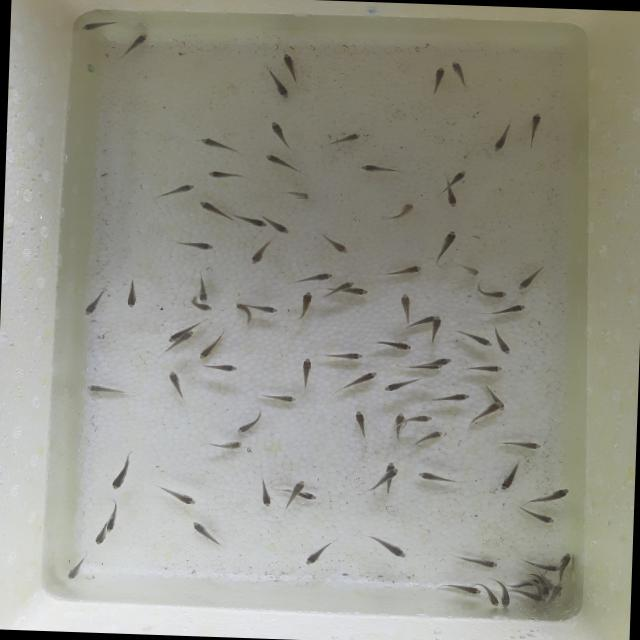fingerling: (356, 526, 414, 561), (108, 447, 138, 494), (152, 481, 200, 507), (496, 454, 527, 494), (302, 534, 338, 568), (112, 31, 154, 60), (336, 366, 379, 394), (186, 518, 226, 548), (516, 260, 550, 294), (80, 284, 114, 318), (262, 151, 308, 175), (377, 198, 419, 224), (527, 483, 573, 506), (378, 373, 424, 396), (514, 506, 562, 528), (320, 128, 364, 152), (196, 134, 243, 156), (487, 120, 515, 156), (264, 118, 295, 150), (468, 399, 501, 429), (451, 326, 494, 349), (519, 111, 545, 149), (196, 328, 227, 359), (232, 406, 264, 436), (415, 466, 462, 486), (251, 475, 278, 509), (452, 550, 502, 568), (122, 276, 146, 313), (154, 180, 198, 200), (174, 233, 218, 253), (368, 336, 416, 354), (472, 279, 512, 300), (82, 382, 134, 398), (295, 355, 318, 391), (426, 389, 474, 406), (318, 232, 352, 256), (423, 65, 446, 100), (484, 301, 528, 319), (432, 228, 454, 264), (76, 16, 120, 34), (64, 550, 88, 583), (247, 240, 274, 268), (294, 288, 315, 324), (446, 59, 472, 88), (516, 556, 560, 573), (204, 166, 248, 183), (494, 436, 543, 451), (290, 270, 338, 285), (493, 324, 514, 358), (200, 438, 247, 453), (396, 292, 418, 324), (196, 198, 228, 220), (196, 360, 242, 375), (322, 348, 371, 362), (412, 428, 448, 447), (254, 389, 299, 404), (278, 50, 301, 78), (352, 407, 372, 439), (166, 369, 186, 401), (357, 162, 399, 177), (386, 262, 424, 278), (268, 74, 290, 100), (280, 186, 312, 203), (266, 218, 294, 235), (390, 411, 406, 440), (404, 411, 437, 425), (464, 363, 506, 374), (232, 302, 252, 325), (194, 274, 210, 302), (558, 550, 572, 581), (456, 262, 483, 276), (252, 303, 280, 315), (446, 188, 461, 208), (450, 168, 468, 184), (432, 314, 442, 342), (483, 591, 500, 607), (498, 590, 512, 609), (379, 468, 401, 480), (92, 530, 108, 546), (192, 302, 215, 313), (352, 286, 372, 298), (459, 586, 482, 596), (431, 355, 453, 365), (164, 329, 179, 343), (178, 329, 194, 342), (294, 478, 308, 492), (250, 218, 268, 228), (340, 279, 356, 290), (300, 491, 316, 502), (530, 594, 546, 602), (552, 582, 564, 592), (384, 461, 396, 470)
